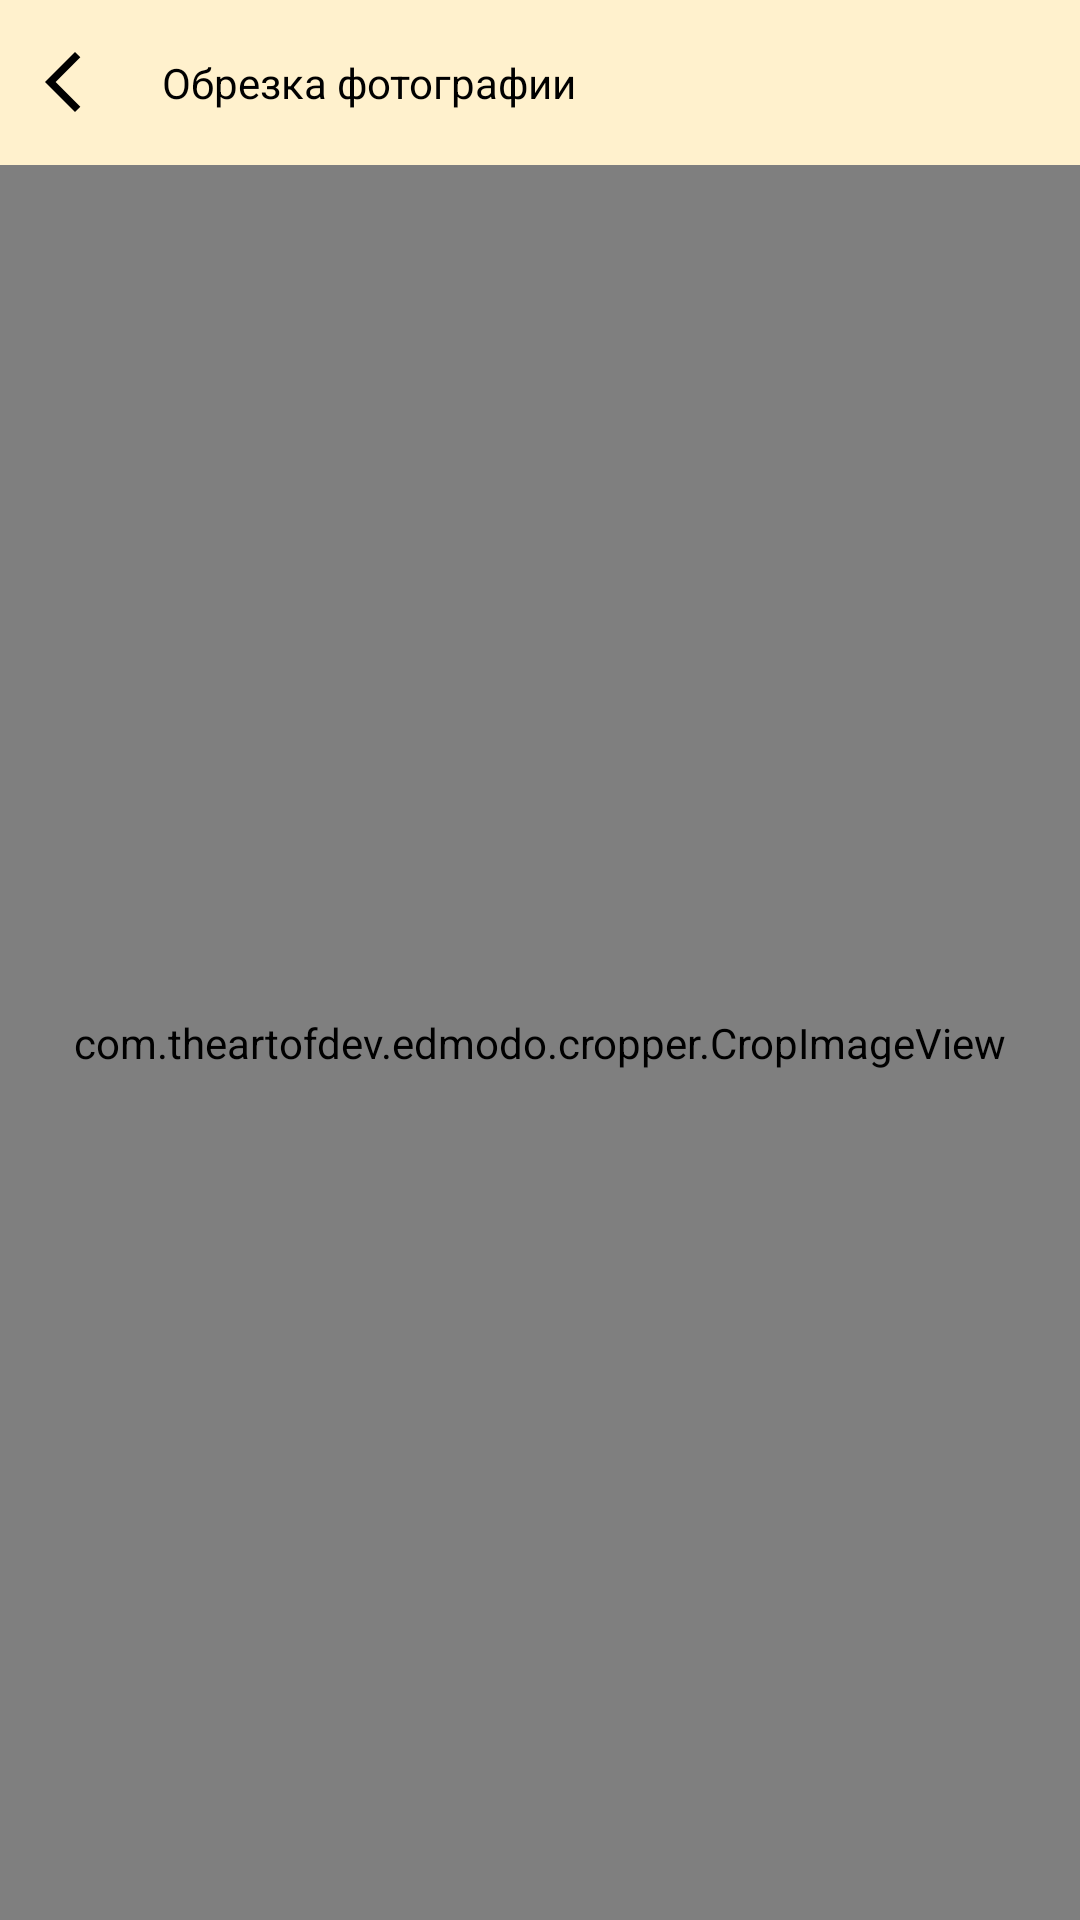

Icon click points for this 1080 x 1920 phone screenshot, format [x,y]:
arrow back: [62,82]
